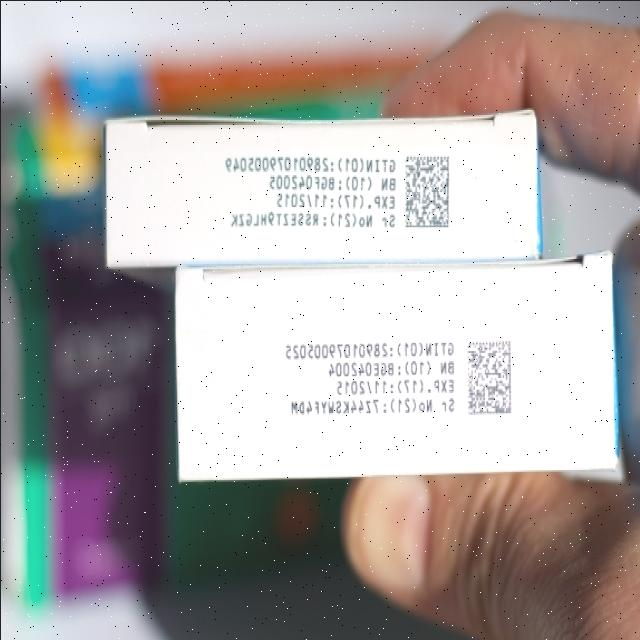datamatrix: (400, 146, 450, 233), (464, 330, 514, 417)
